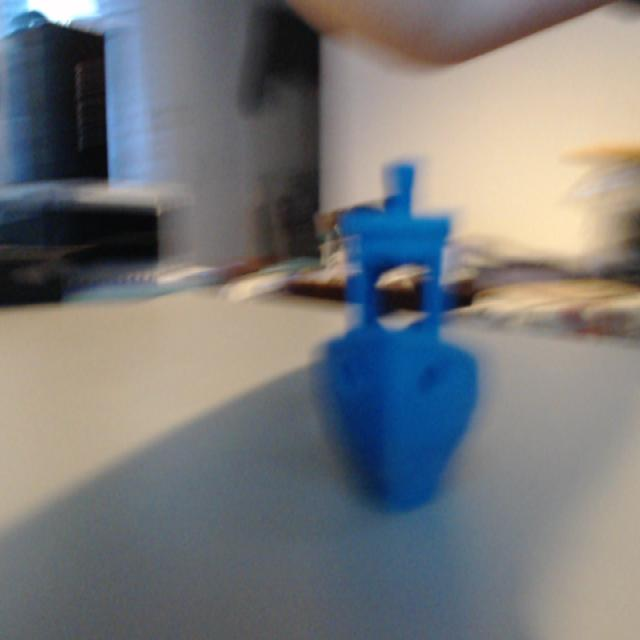benchy: (319, 157, 483, 514)
